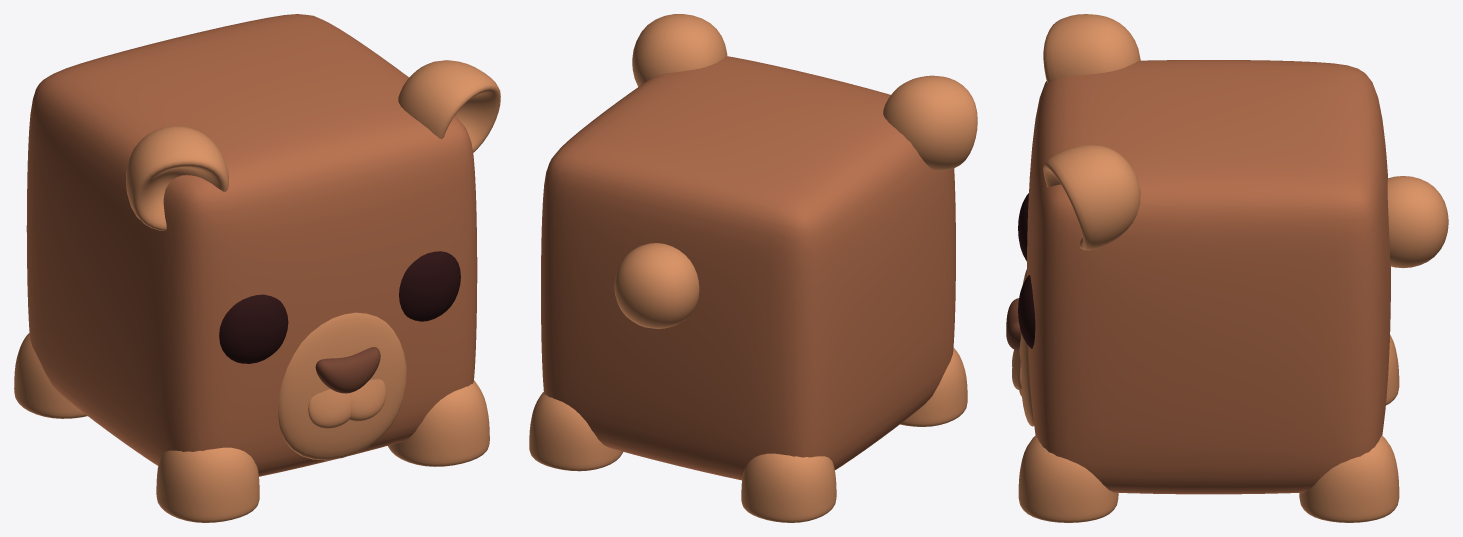
Rendered from bear.fbx.
3 renders of one model, left to right at view 1: azimuth 30°, elevation 25°; view 2: azimuth 150°, elevation 25°; view 3: azimuth 270°, elevation 25°, orthographic. The views are drawn at different scales.
Visible parts, largest first — view 1: Cube; view 2: Cube; view 3: Cube.
Boxes of the visible parts, x1,y1,x2,y2 form: Cube: [14, 14, 500, 522]; Cube: [529, 14, 977, 522]; Cube: [1006, 14, 1448, 522].
Size of the model in its own units: 226 by 217 by 240.
